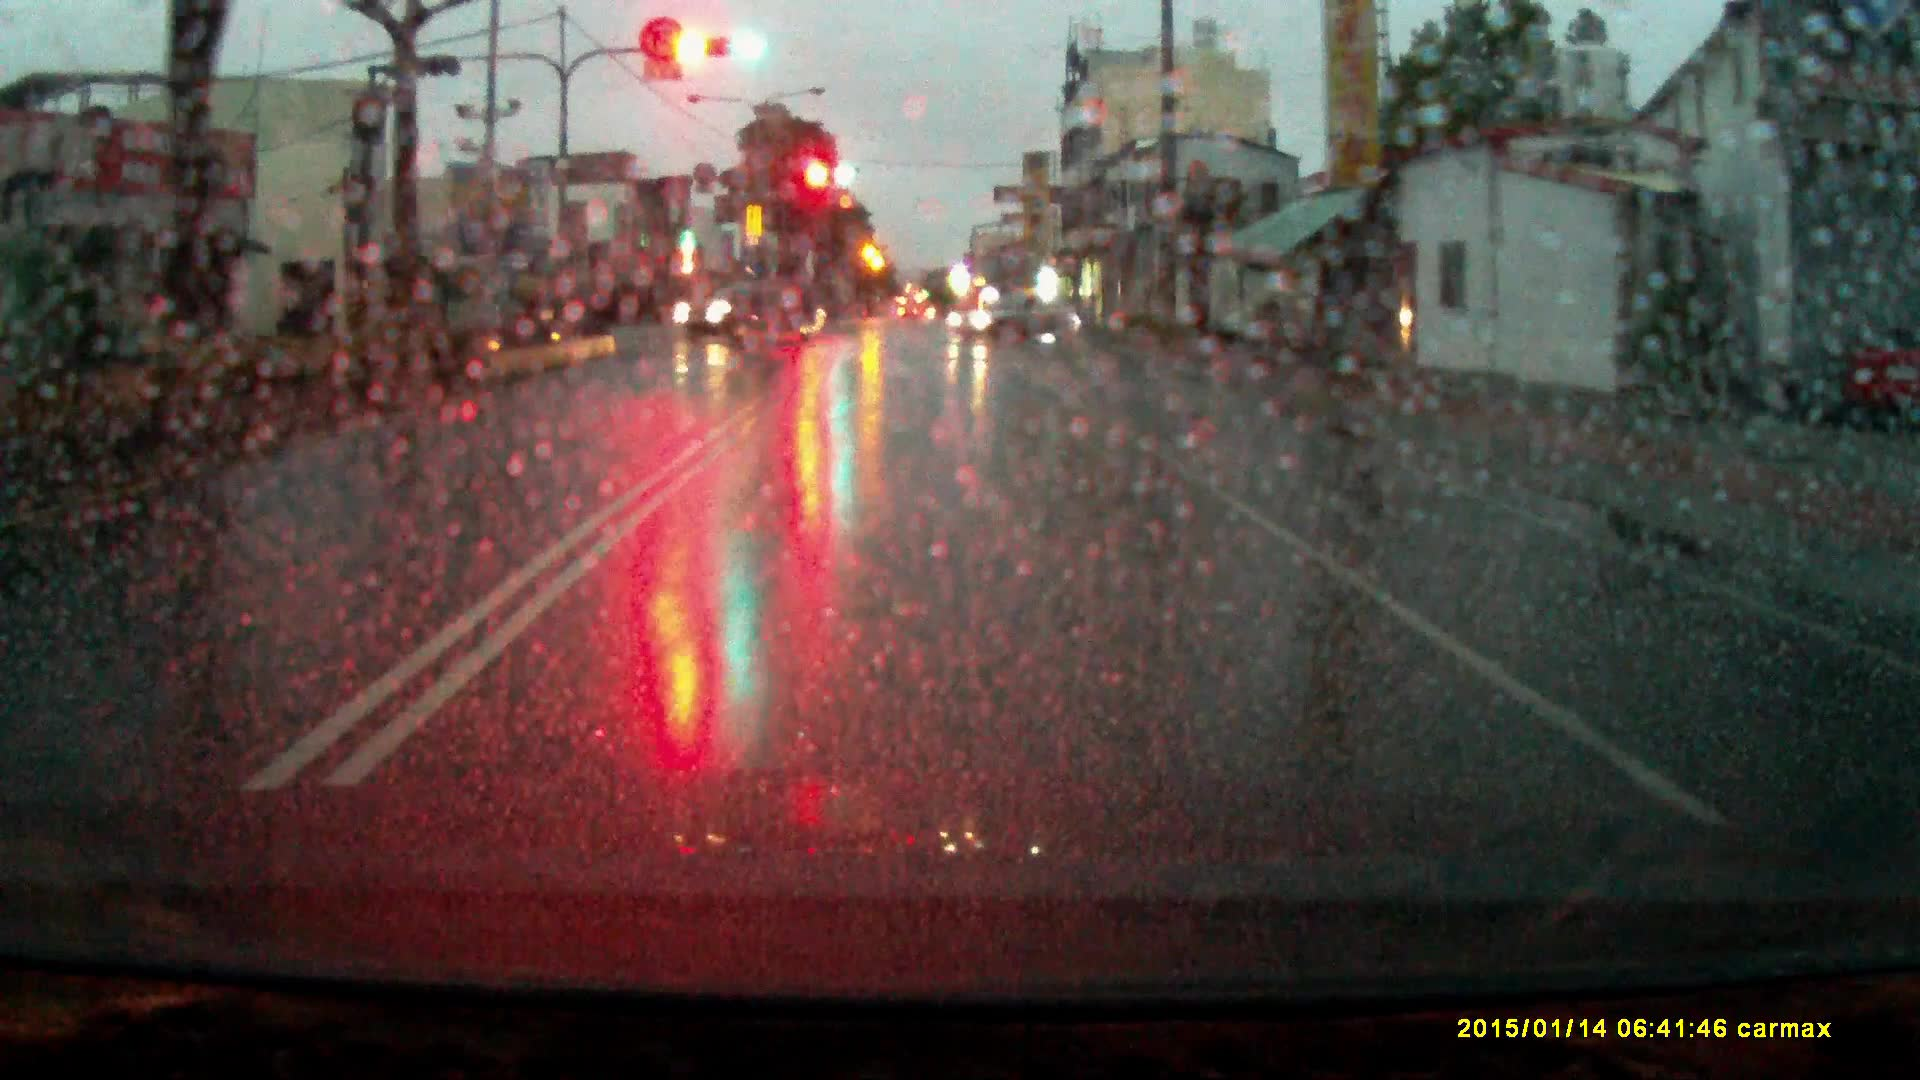vehicle: (674, 274, 828, 343), (942, 291, 1080, 339)
